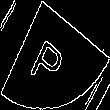P_NE: (33, 23, 77, 87)
